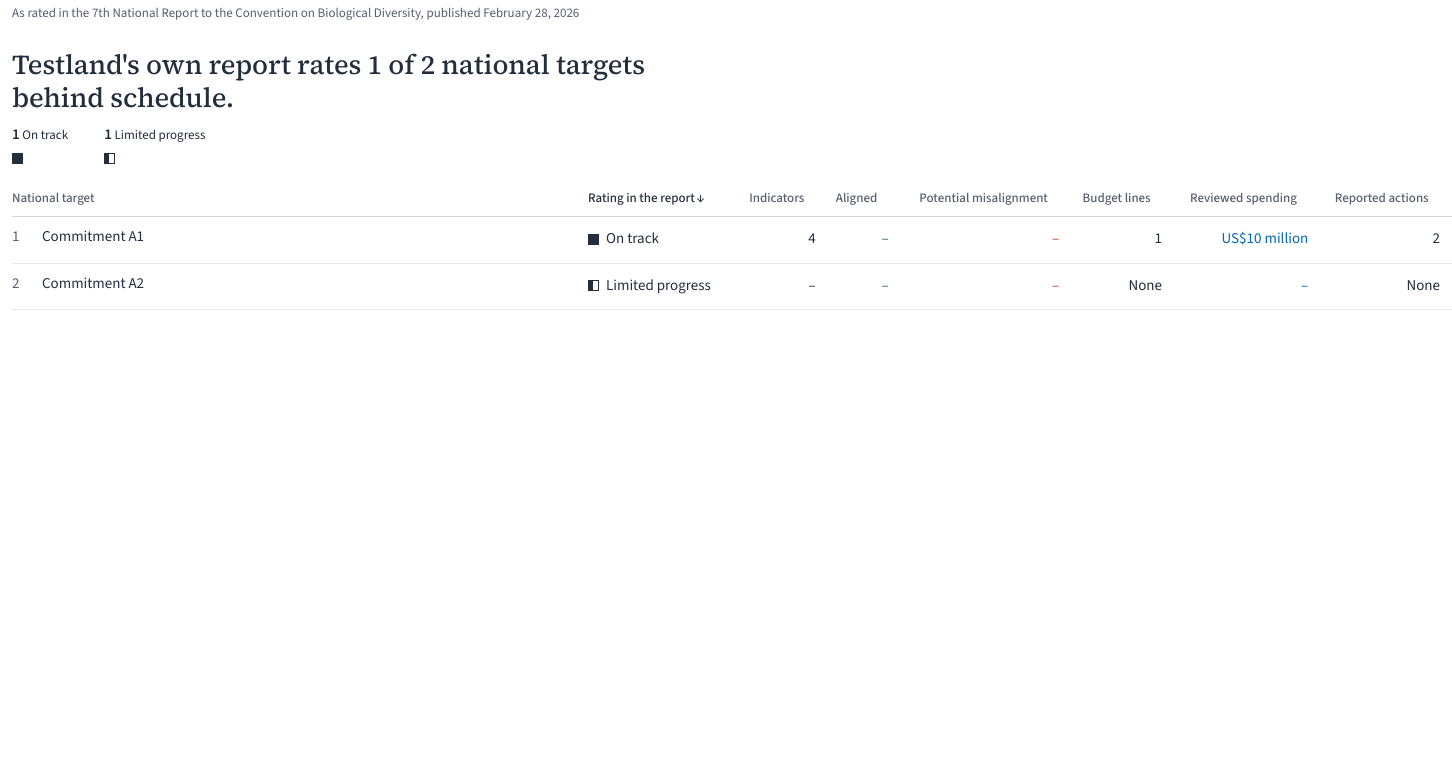
Test: Nr7Section › keeps the row's name in the row and gives the whole wording its own line
Click the button "1 Commitment A1".
click(78, 237)  # box top-left (12, 227), bottom-right (144, 248)
(page scrolled)
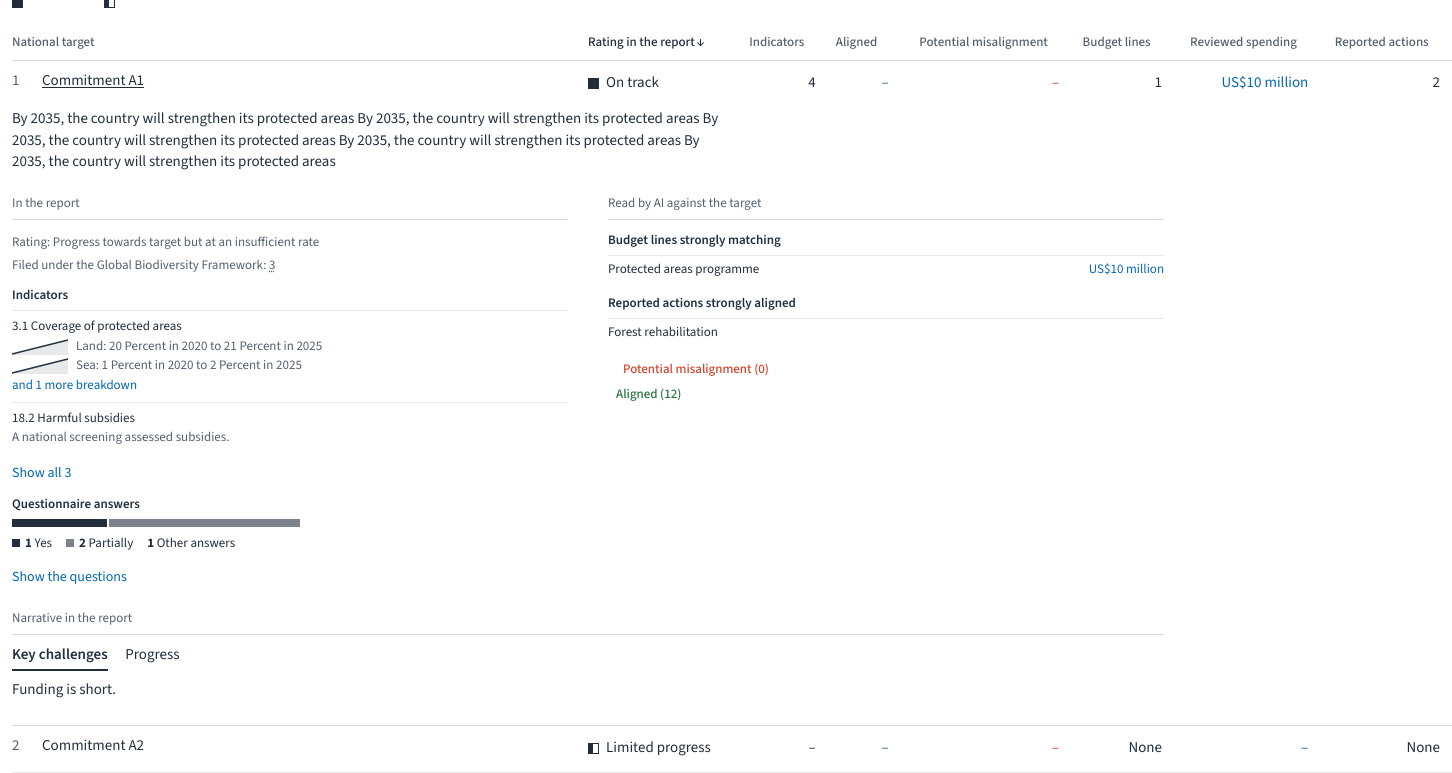
Check: the text "Funding is short." is shown, box top-left (12, 679), bottom-right (116, 701)
